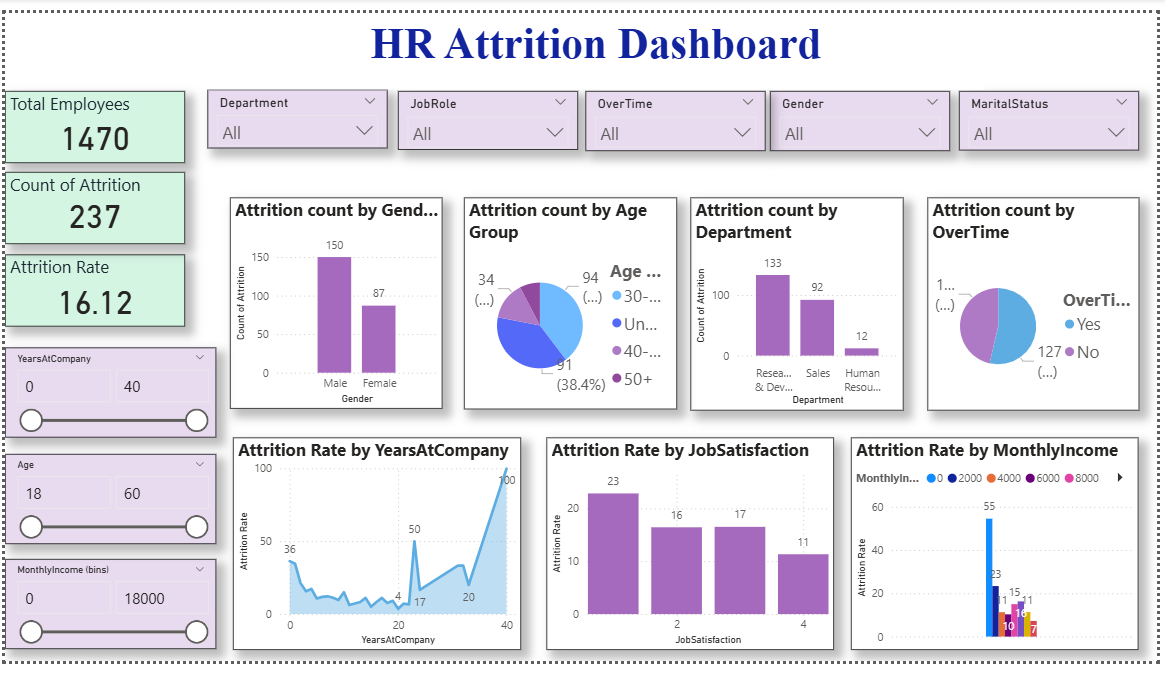

The dashboard page shown, as its layout file describes it:
{"tool":"powerbi","page":{"name":"HR Attrition dashboard","canvas":[1280,720],"ordinal":0},"visuals":[{"type":"clusteredColumnChart","title":" Attrition count by Department","fields":{"Category":["WA_Fn-UseC_-HR-Employee-Attrition.Department"],"Y":["CountNonNull(WA_Fn-UseC_-HR-Employee-Attrition.Attrition)"]},"box":[761.7,205,236.7,236.7],"z":0},{"type":"clusteredColumnChart","title":"Attrition count by Gender","fields":{"Category":["WA_Fn-UseC_-HR-Employee-Attrition.Gender"],"Y":["CountNonNull(WA_Fn-UseC_-HR-Employee-Attrition.Attrition)"]},"box":[250.8,205.7,236.3,234.7],"z":1000},{"type":"pieChart","title":"Attrition count by Age Group","fields":{"Category":["WA_Fn-UseC_-HR-Employee-Attrition.Age Group"],"Y":["CountNonNull(WA_Fn-UseC_-HR-Employee-Attrition.Attrition)"]},"box":[510,205,236.7,235],"z":2000},{"type":"card","title":"Total Employees","fields":{"Values":["CountNonNull(WA_Fn-UseC_-HR-Employee-Attrition.EmployeeNumber)"]},"box":[0,86.3,199.9,80.3],"z":3000},{"type":"card","title":"Attrition Rate","fields":{"Values":["WA_Fn-UseC_-HR-Employee-Attrition.Attrition Rate"]},"box":[0,268,199.9,80.3],"z":4000},{"type":"slicer","fields":{"Values":["WA_Fn-UseC_-HR-Employee-Attrition.Department"]},"box":[225,85,200,65],"z":5000},{"type":"slicer","fields":{"Values":["WA_Fn-UseC_-HR-Employee-Attrition.JobRole"]},"box":[436.7,86.7,200,65],"z":6000},{"type":"slicer","fields":{"Values":["WA_Fn-UseC_-HR-Employee-Attrition.Gender"]},"box":[850,86.7,200,66.7],"z":7000},{"type":"slicer","fields":{"Values":["WA_Fn-UseC_-HR-Employee-Attrition.MaritalStatus"]},"box":[1060.2,86.9,200.3,66.1],"z":8000},{"type":"slicer","fields":{"Values":["WA_Fn-UseC_-HR-Employee-Attrition.OverTime"]},"box":[645,86.7,200,66.7],"z":9000},{"type":"clusteredColumnChart","title":"Attrition Rate by MonthlyIncome","fields":{"Series":["WA_Fn-UseC_-HR-Employee-Attrition.MonthlyIncome (bins)"],"Y":["WA_Fn-UseC_-HR-Employee-Attrition.Attrition Rate"]},"box":[940.3,472.4,319.5,236.2],"z":10000},{"type":"clusteredColumnChart","title":"Attrition Rate by JobSatisfaction","fields":{"Category":["WA_Fn-UseC_-HR-Employee-Attrition.JobSatisfaction"],"Y":["WA_Fn-UseC_-HR-Employee-Attrition.Attrition Rate"]},"box":[601.1,472.4,319.5,236.2],"z":11000},{"type":"lineChart","fields":{"Category":["WA_Fn-UseC_-HR-Employee-Attrition.YearsAtCompany"],"Y":["WA_Fn-UseC_-HR-Employee-Attrition.Attrition Rate"]},"box":[253.2,472.4,320,236.2],"z":12000},{"type":"kpi","title":"Count of Attrition ","fields":{"TrendLine":["WA_Fn-UseC_-HR-Employee-Attrition.Attrition"],"Indicator":["CountNonNull(WA_Fn-UseC_-HR-Employee-Attrition.Attrition)"]},"box":[0,177.2,199.9,80.3],"z":13000},{"type":"pieChart","title":"Attrition count by OverTime","fields":{"Y":["CountNonNull(WA_Fn-UseC_-HR-Employee-Attrition.Attrition)"],"Category":["WA_Fn-UseC_-HR-Employee-Attrition.OverTime"]},"box":[1025,205,235,236.7],"z":14000},{"type":"textbox","box":[225,1.7,863.3,83.3],"z":15000},{"type":"slicer","fields":{"Values":["WA_Fn-UseC_-HR-Employee-Attrition.MonthlyIncome (bins)"]},"box":[0,607.2,234.7,99.9],"z":16000},{"type":"slicer","fields":{"Values":["WA_Fn-UseC_-HR-Employee-Attrition.YearsAtCompany"]},"box":[0,371,234.7,99.9],"z":17000},{"type":"slicer","fields":{"Values":["WA_Fn-UseC_-HR-Employee-Attrition.Age"]},"box":[0,490.6,234.7,99.9],"z":18000}]}

Visuals, with their boxes in screenshot pixels (x1, y1, x2, y2), scaled from the page's 1280x720 canvas onto the 1165x673 screenshot:
" Attrition count by Department" clusteredColumnChart: Rect(693, 192, 909, 413)
"Attrition count by Gender" clusteredColumnChart: Rect(228, 192, 443, 412)
"Attrition count by Age Group" pieChart: Rect(464, 192, 680, 411)
"Total Employees" card: Rect(0, 81, 182, 156)
"Attrition Rate" card: Rect(0, 251, 182, 326)
slicer - WA_Fn-UseC_-HR-Employee-Attrition.Department: Rect(205, 79, 387, 140)
slicer - WA_Fn-UseC_-HR-Employee-Attrition.JobRole: Rect(397, 81, 579, 142)
slicer - WA_Fn-UseC_-HR-Employee-Attrition.Gender: Rect(774, 81, 956, 143)
slicer - WA_Fn-UseC_-HR-Employee-Attrition.MaritalStatus: Rect(965, 81, 1147, 143)
slicer - WA_Fn-UseC_-HR-Employee-Attrition.OverTime: Rect(587, 81, 769, 143)
"Attrition Rate by MonthlyIncome" clusteredColumnChart: Rect(856, 442, 1147, 662)
"Attrition Rate by JobSatisfaction" clusteredColumnChart: Rect(547, 442, 838, 662)
lineChart - WA_Fn-UseC_-HR-Employee-Attrition.YearsAtCompany x WA_Fn-UseC_-HR-Employee-Attrition.Attrition Rate: Rect(230, 442, 522, 662)
"Count of Attrition " kpi: Rect(0, 166, 182, 241)
"Attrition count by OverTime" pieChart: Rect(933, 192, 1147, 413)
textbox: Rect(205, 2, 991, 79)
slicer - WA_Fn-UseC_-HR-Employee-Attrition.MonthlyIncome (bins): Rect(0, 568, 214, 661)
slicer - WA_Fn-UseC_-HR-Employee-Attrition.YearsAtCompany: Rect(0, 347, 214, 440)
slicer - WA_Fn-UseC_-HR-Employee-Attrition.Age: Rect(0, 459, 214, 552)
